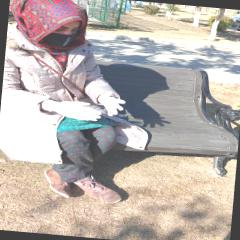gloved: (52, 98, 102, 122), (100, 92, 124, 116)
